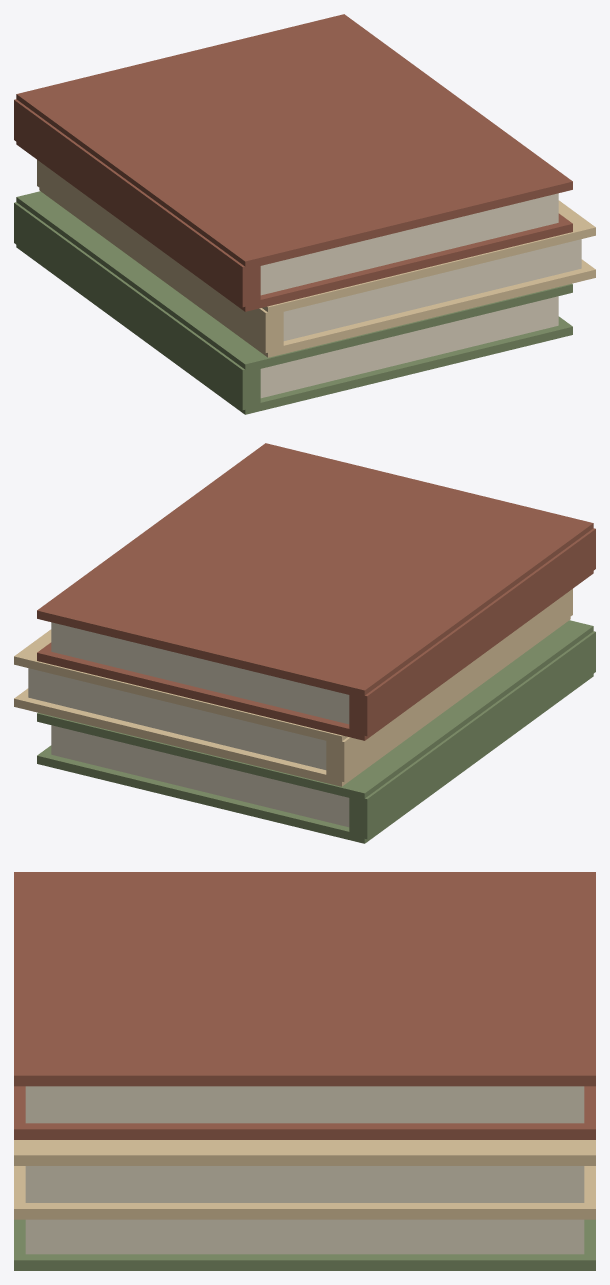
File: bookStack.glb
3 views of the same model, one above another, from view 1: azimuth 30°, elevation 25°; view 2: azimuth 150°, elevation 25°; view 3: azimuth 270°, elevation 25° (orthographic). The views are drawn at different scales.
Parts seen in each view (by area): view 1: bookStack_book_2_cover_1, bookStack_book_2_spine, bookStack_book_0_spine, bookStack_book_0_cover_1, bookStack_book_0_pages, bookStack_book_2_pages, bookStack_book_1_pages, bookStack_book_1_spine, bookStack_book_1_cover_-1, bookStack_book_2_cover_-1, bookStack_book_0_cover_-1, bookStack_book_1_cover_1; view 2: bookStack_book_2_cover_1, bookStack_book_2_spine, bookStack_book_0_spine, bookStack_book_0_cover_1, bookStack_book_0_pages, bookStack_book_2_pages, bookStack_book_1_pages, bookStack_book_1_spine, bookStack_book_1_cover_-1, bookStack_book_2_cover_-1, bookStack_book_0_cover_-1, bookStack_book_1_cover_1; view 3: bookStack_book_2_cover_1, bookStack_book_2_pages, bookStack_book_1_pages, bookStack_book_0_pages, bookStack_book_1_cover_1, bookStack_book_1_cover_-1, bookStack_book_2_cover_-1, bookStack_book_0_cover_-1.
Boxes of the visible parts, x1,y1,x2,y2 form: bookStack_book_2_cover_1: (16,14,572,269); bookStack_book_2_spine: (14,99,260,307); bookStack_book_0_spine: (14,202,260,410); bookStack_book_0_cover_1: (16,191,572,372); bookStack_book_0_pages: (260,296,558,398); bookStack_book_2_pages: (260,193,558,295); bookStack_book_1_pages: (283,239,581,340); bookStack_book_1_spine: (37,160,283,352); bookStack_book_1_cover_-1: (39,188,595,357); bookStack_book_2_cover_-1: (16,142,572,311); bookStack_book_0_cover_-1: (16,245,572,414); bookStack_book_1_cover_1: (262,200,595,315); bookStack_book_2_cover_1: (37,443,593,698); bookStack_book_2_spine: (349,528,595,736); bookStack_book_0_spine: (349,631,595,839); bookStack_book_0_cover_1: (37,620,593,801); bookStack_book_0_pages: (51,725,349,827); bookStack_book_2_pages: (51,622,349,724); bookStack_book_1_pages: (28,668,326,769); bookStack_book_1_spine: (326,589,572,781); bookStack_book_1_cover_-1: (14,617,570,786); bookStack_book_2_cover_-1: (37,571,593,740); bookStack_book_0_cover_-1: (37,674,593,843); bookStack_book_1_cover_1: (14,629,347,744); bookStack_book_2_cover_1: (14,872,595,1086); bookStack_book_2_pages: (25,1086,584,1123); bookStack_book_1_pages: (25,1166,584,1202); bookStack_book_0_pages: (25,1219,584,1254); bookStack_book_1_cover_1: (14,1140,595,1165); bookStack_book_1_cover_-1: (14,1166,595,1219); bookStack_book_2_cover_-1: (14,1086,595,1139); bookStack_book_0_cover_-1: (14,1219,595,1270).
Bounding box in the file's own units: 0.2586 × 0.1073 × 0.29.
